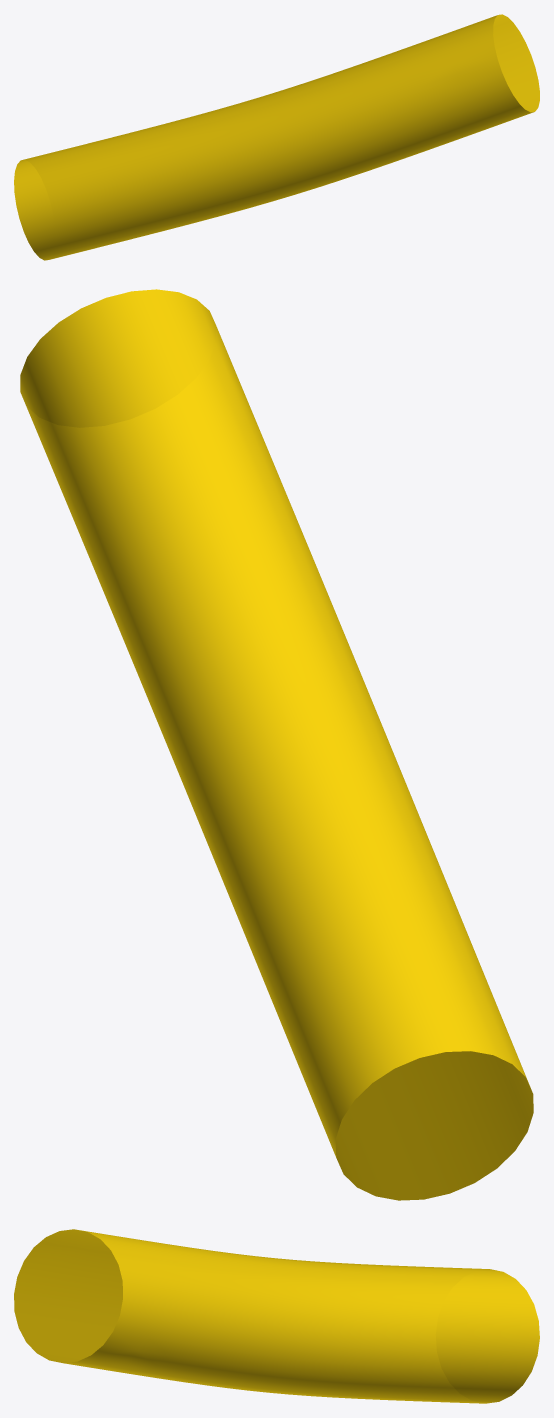
File: Event_421127236_track_29.fbx
3 views of the same model, one above another, from view 1: azimuth 30°, elevation 25°; view 2: azimuth 150°, elevation 25°; view 3: azimuth 270°, elevation 25° (orthographic). The views are drawn at different scales.
Visible parts, largest first — view 1: Model; view 2: Model; view 3: Model.
Part boxes in pixels (box(x1,y1,x2,y2)): Model: box(14, 14, 539, 260); Model: box(20, 289, 533, 1200); Model: box(14, 1229, 539, 1403).
Size of the model in its own units: 0.171 by 0.1163 by 0.1562.
